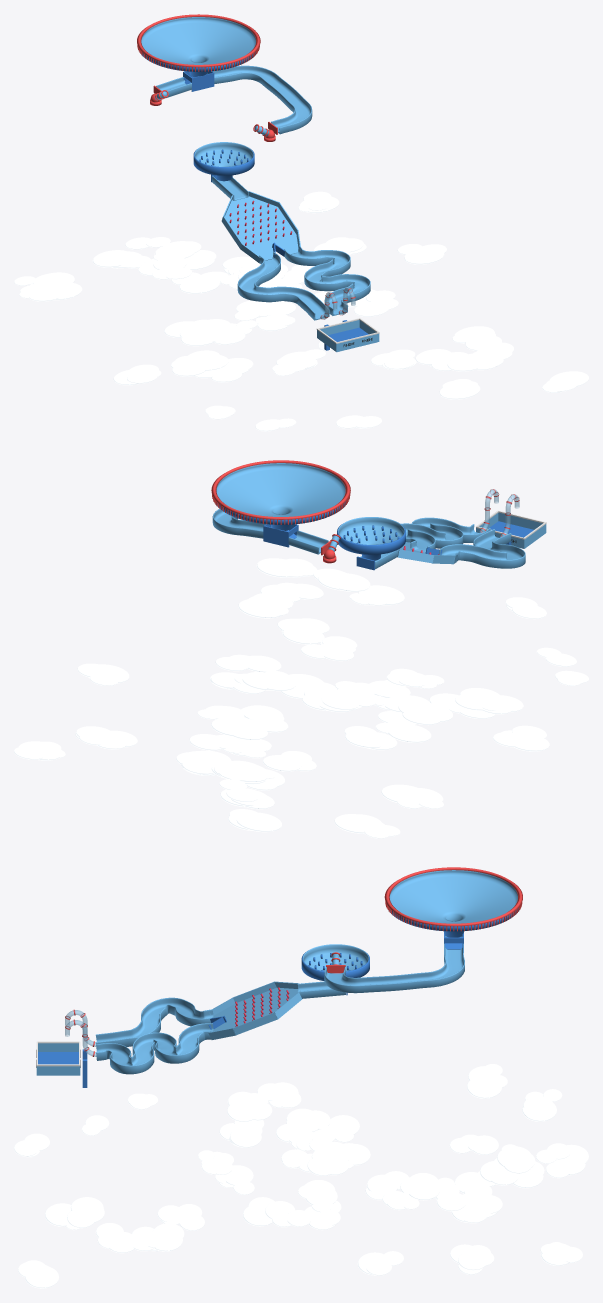
File: tumble.glb
The picture shows the model from 3 angles, top to bottom: view 1: azimuth 30°, elevation 25°; view 2: azimuth 150°, elevation 25°; view 3: azimuth 270°, elevation 25°; orthographic projection. The views are drawn at different scales.
Parts seen in each view (by area): view 1: F_start, R_T30_serpR, X_Board, R_T31_serpL, R_T11_right, F_basin, D_StartRim, Cloud.187, Cloud.060; view 2: F_start, F_basin, R_T31_serpL, R_T30_serpR, D_StartRim, R_T11_right, Cloud.060, Cloud.055, Cloud.190, Cloud.157, Cloud.007, Cloud.087 (+9 smaller); view 3: F_start, R_T30_serpR, R_T11_right, R_T31_serpL, F_basin, X_Board, D_StartRim, Cloud.157, Cloud.016, Cloud.149, R_T20_chute, Cloud.097.
Part boxes in pixels (bbox=[...]): F_start: bbox=[141, 17, 255, 77]; R_T30_serpR: bbox=[284, 245, 370, 315]; X_Board: bbox=[224, 196, 298, 260]; R_T31_serpL: bbox=[237, 252, 329, 320]; R_T11_right: bbox=[207, 65, 312, 134]; F_basin: bbox=[193, 142, 254, 181]; D_StartRim: bbox=[137, 14, 260, 67]; Cloud.187: bbox=[439, 382, 480, 399]; Cloud.060: bbox=[92, 250, 131, 267]; F_start: bbox=[216, 463, 345, 530]; F_basin: bbox=[337, 517, 405, 560]; R_T31_serpL: bbox=[439, 529, 525, 568]; R_T30_serpR: bbox=[400, 517, 490, 552]; D_StartRim: bbox=[211, 460, 350, 519]; R_T11_right: bbox=[212, 509, 270, 538]; Cloud.060: bbox=[236, 812, 281, 832]; Cloud.055: bbox=[238, 599, 280, 618]; Cloud.190: bbox=[388, 724, 431, 742]; Cloud.157: bbox=[256, 558, 296, 577]; Cloud.007: bbox=[345, 729, 386, 748]; Cloud.087: bbox=[282, 626, 324, 644]; F_start: bbox=[389, 870, 518, 937]; R_T30_serpR: bbox=[96, 1023, 213, 1074]; R_T11_right: bbox=[324, 943, 464, 993]; R_T31_serpL: bbox=[95, 997, 213, 1046]; F_basin: bbox=[301, 944, 369, 980]; X_Board: bbox=[212, 987, 300, 1031]; D_StartRim: bbox=[384, 867, 522, 926]; Cloud.157: bbox=[25, 1265, 58, 1288]; Cloud.016: bbox=[467, 1079, 501, 1098]; Cloud.149: bbox=[409, 1178, 440, 1200]; R_T20_chute: bbox=[297, 981, 345, 998]; Cloud.097: bbox=[229, 1126, 261, 1147].
Bounding box in the file's own units: 164 × 108 × 195.
